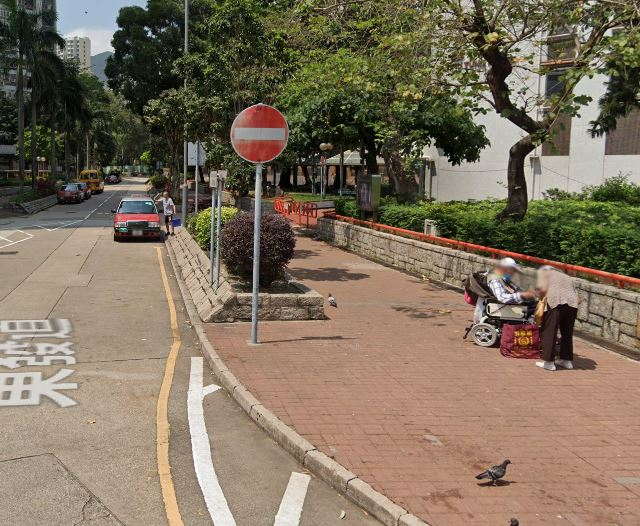No Enter: (230, 104, 289, 167)
